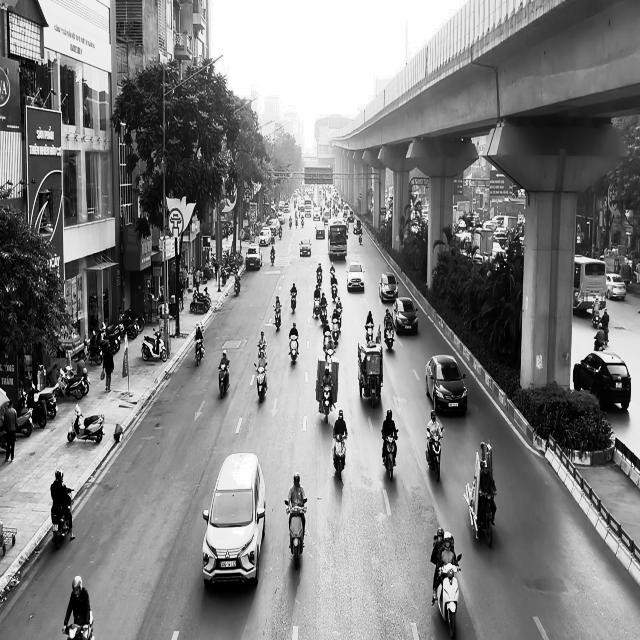bus: (572, 254, 606, 313)
car: (202, 452, 266, 587), (572, 350, 632, 411), (425, 354, 467, 415), (392, 298, 418, 336), (346, 261, 365, 291), (379, 272, 398, 302), (606, 272, 626, 300), (299, 236, 312, 256)
motorbike: (434, 554, 461, 638), (284, 498, 307, 569), (51, 488, 75, 549), (425, 425, 444, 481), (62, 612, 94, 640), (141, 328, 167, 362), (381, 430, 398, 480), (332, 431, 346, 480), (319, 383, 333, 424), (254, 362, 267, 402), (218, 361, 230, 399), (194, 336, 205, 366), (384, 321, 394, 349), (272, 304, 282, 331), (289, 335, 298, 363), (364, 322, 374, 346), (290, 291, 297, 313)
